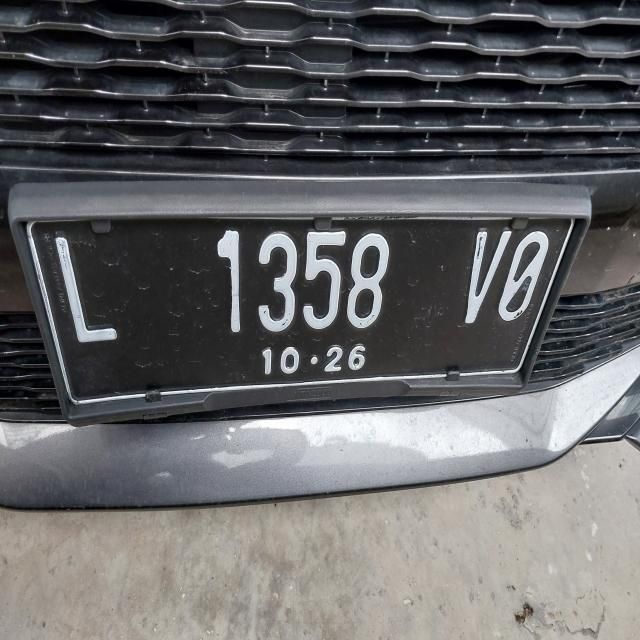1: (200, 215, 259, 348)
3: (251, 213, 298, 341)
5: (296, 216, 346, 344)
8: (347, 212, 397, 341)
L: (40, 217, 128, 372)
O: (498, 217, 554, 330)
V: (462, 216, 512, 346)
